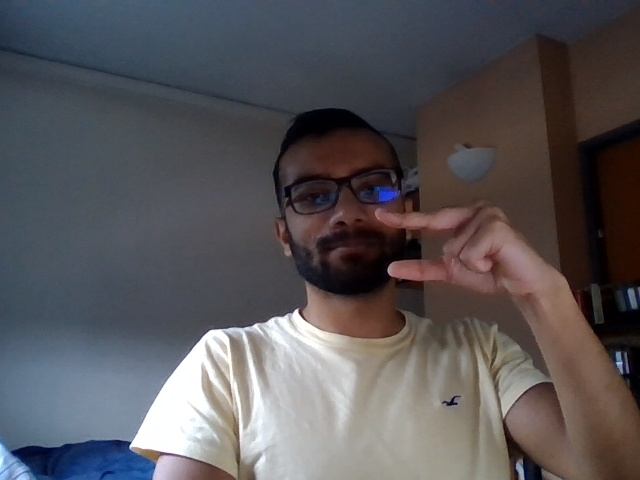No: (368, 199, 574, 297)
